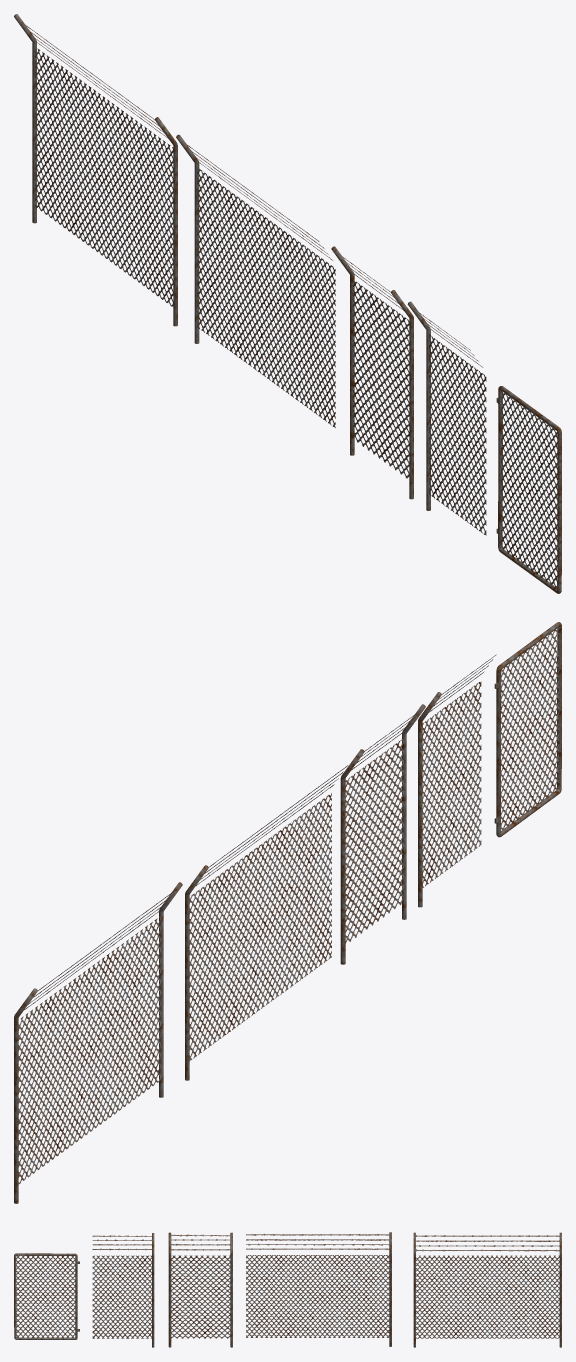
The model's file is chain_fence.glb.
3 renders of one model, top to bottom at view 1: azimuth 30°, elevation 25°; view 2: azimuth 150°, elevation 25°; view 3: azimuth 270°, elevation 25°, orthographic. The views are drawn at different scales.
Parts seen in each view (by area): view 1: Cube.002_0, Cylinder.007_4, Cube.005_1, Cube.008_3, Cube.007_2; view 2: Cube.002_0, Cylinder.007_4, Cube.005_1, Cube.008_3, Cube.007_2; view 3: Cube.002_0, Cylinder.007_4, Cube.005_1, Cube.007_2, Cube.008_3.
Boxes of the visible parts, x1=… form: Cube.002_0: x1=14, y1=14, x2=177, y2=326; Cylinder.007_4: x1=176, y1=134, x2=335, y2=427; Cube.005_1: x1=331, y1=246, x2=413, y2=499; Cube.008_3: x1=496, y1=386, x2=561, y2=593; Cube.007_2: x1=407, y1=301, x2=486, y2=535; Cube.002_0: x1=14, y1=882, x2=182, y2=1203; Cylinder.007_4: x1=185, y1=765, x2=347, y2=1080; Cube.005_1: x1=340, y1=704, x2=425, y2=964; Cube.008_3: x1=494, y1=622, x2=561, y2=837; Cube.007_2: x1=418, y1=654, x2=496, y2=907; Cube.002_0: x1=413, y1=1232, x2=561, y2=1347; Cylinder.007_4: x1=246, y1=1232, x2=391, y2=1346; Cube.005_1: x1=168, y1=1232, x2=232, y2=1347; Cube.007_2: x1=92, y1=1233, x2=154, y2=1347; Cube.008_3: x1=14, y1=1253, x2=79, y2=1339.
Bounding box in the file's own units: 0.8553 × 6.9 × 31.15.
1 material, 1 textured.
